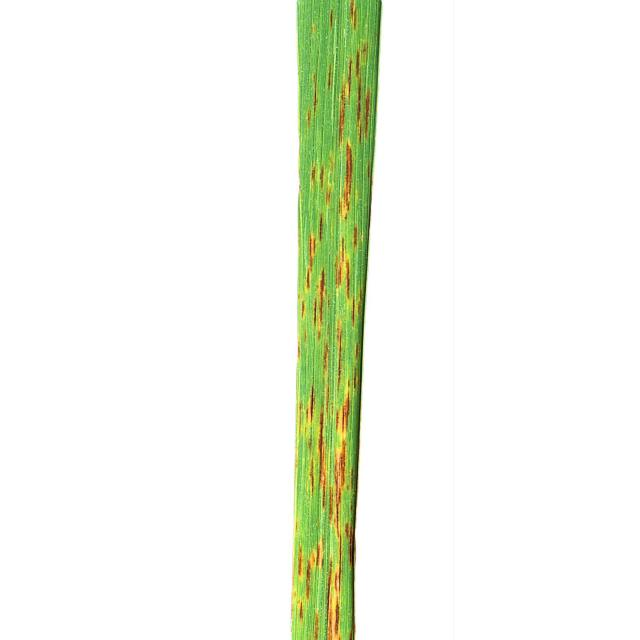Narrow brown: (232, 3, 456, 640)
